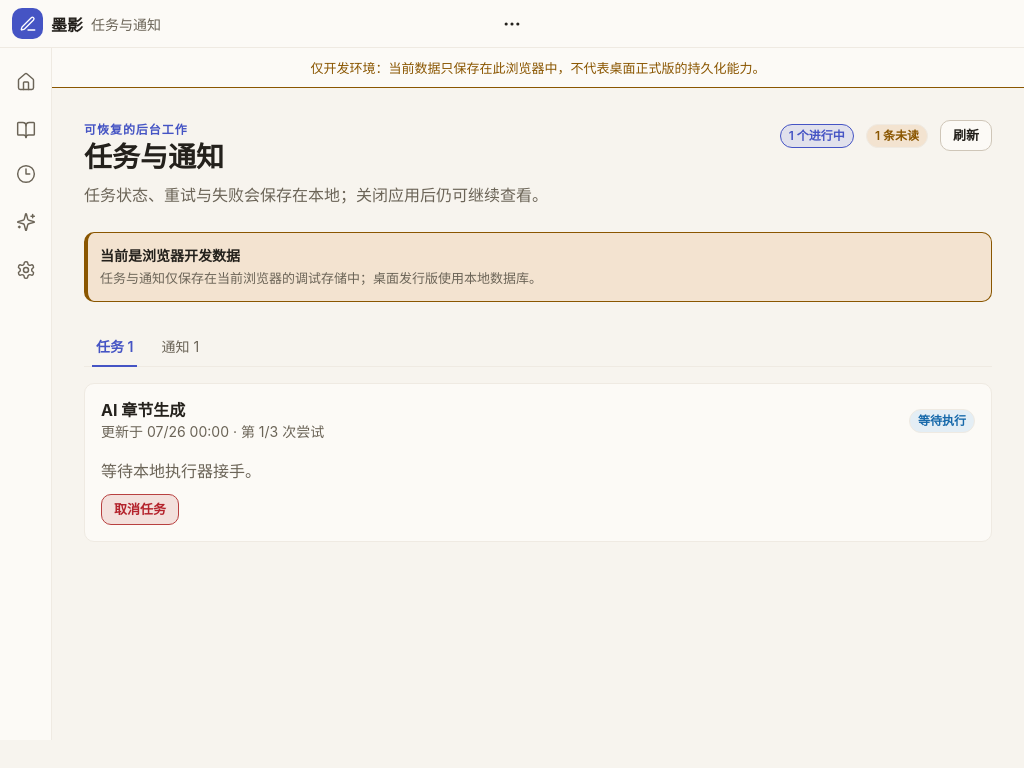
Test: TaskCenterPage › shows durable task state, cancels queued work, and marks notifications read
Expected: the heading "任务与通知" is shown, [84,140,224,174]
Expected: the heading "AI 章节生成" is shown, [101,400,185,420]
Click the button "取消任务": coordinates (140, 510) [101,494,179,525]
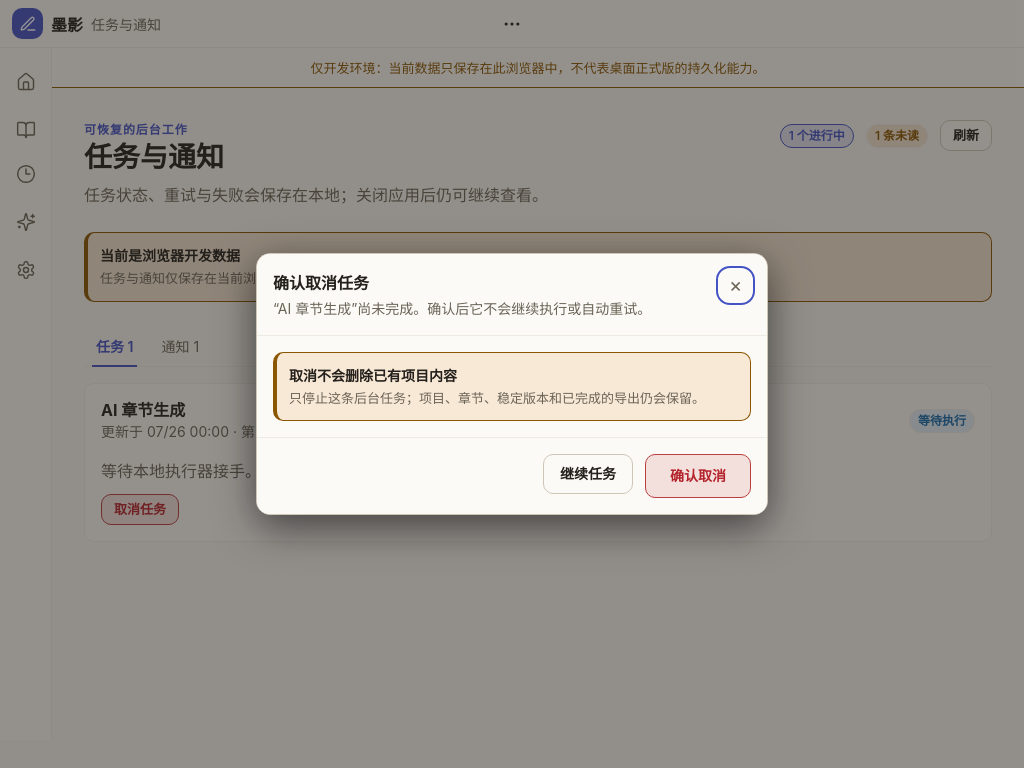
Expected: the dialog "确认取消任务" is shown, [256,253,768,515]
Expected: the text "取消不会删除已有项目内容" is shown, [289,367,457,384]
Click the button "确认取消": coordinates (698, 476) [645,454,751,498]
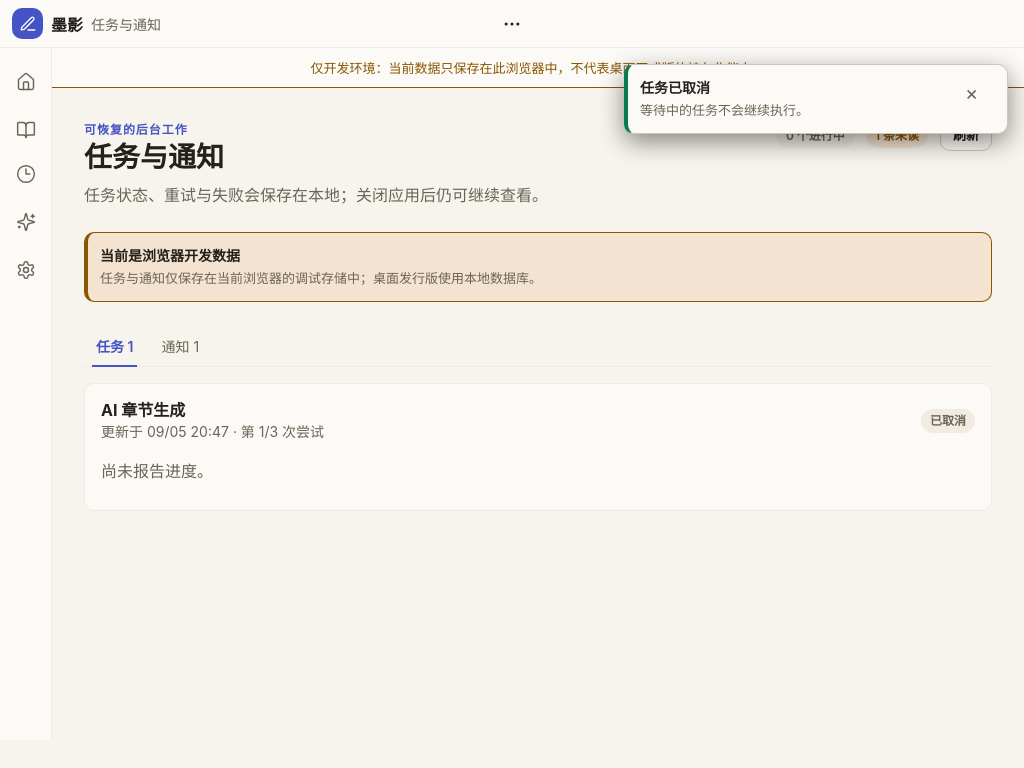
Expected: the text "已取消" is shown, [921,409,975,433]
Click the tab "通知 1": coordinates (180, 346) [150,326,211,366]
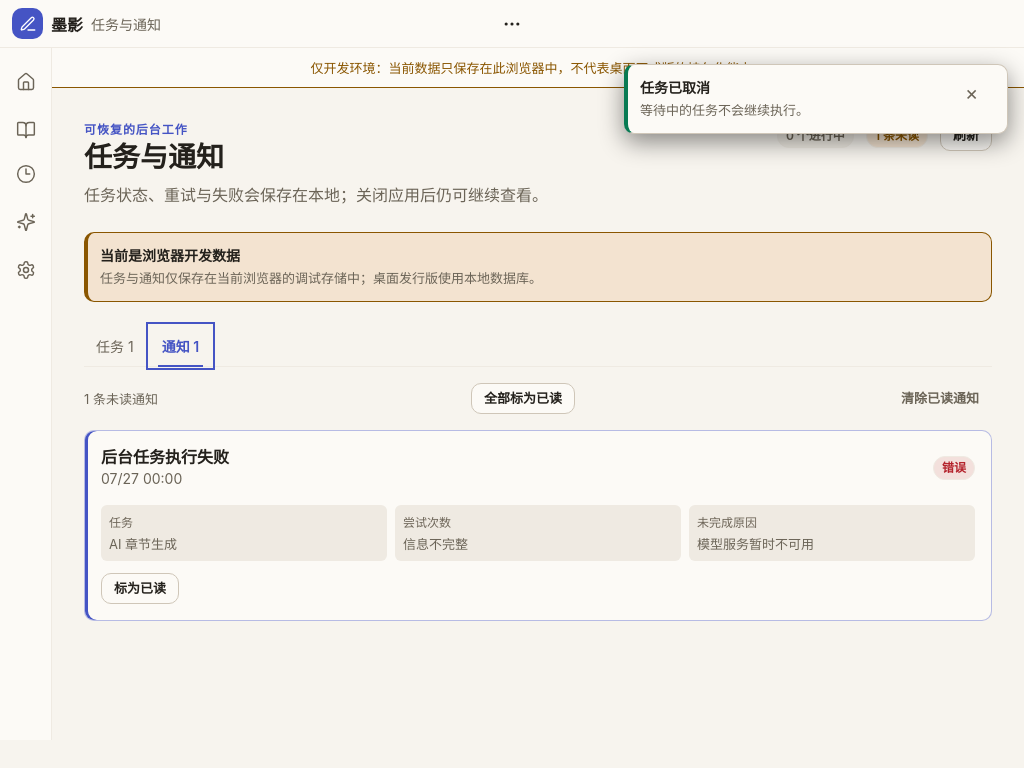
Expected: the heading "后台任务执行失败" is shown, [101,447,229,468]
Expected: the text "信息不完整" is shown, [403,536,468,552]
Click the button "全部标为已读": coordinates (523, 398) [471,383,575,414]
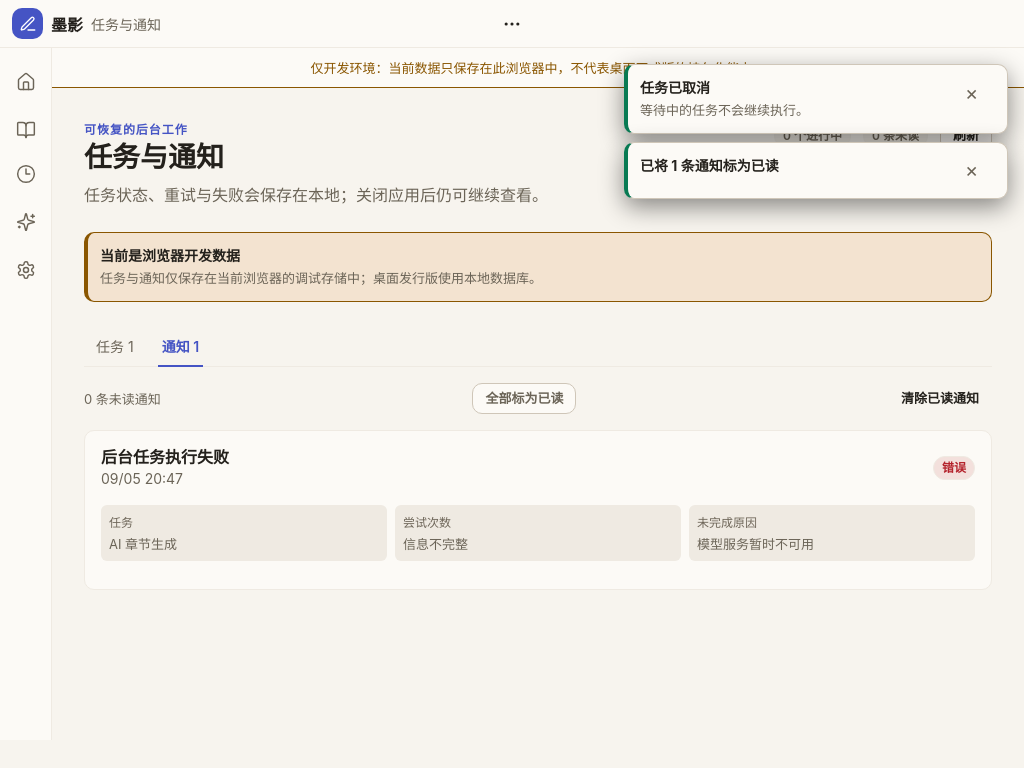
Expected: the text "0 条未读" is shown, [863,124,928,148]
Expected: the button "全部标为已读" is disabled, [472,383,576,414]
Expected: the button "清除已读通知" is enabled
Click the button "清除已读通知": coordinates (940, 398) [888,383,992,414]
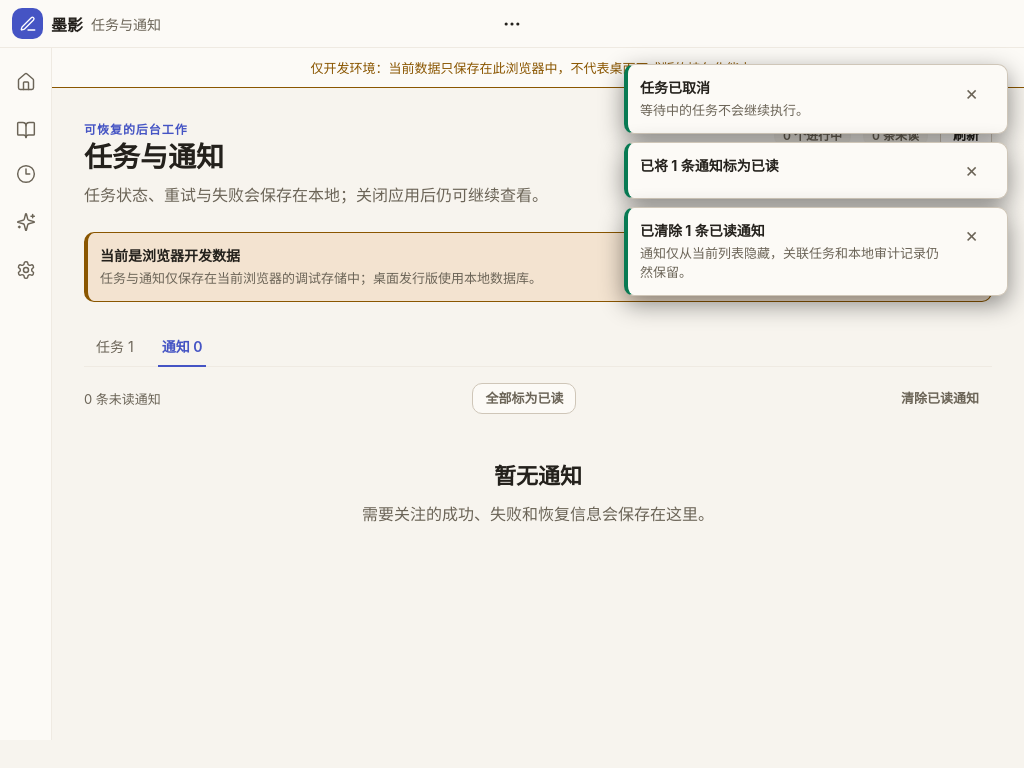
Expected: the tab "通知 0" is shown, [150,326,214,366]
